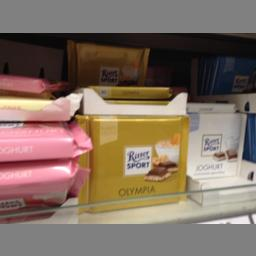chocolate: (72, 110, 186, 212), (184, 110, 245, 177), (66, 38, 150, 84)
